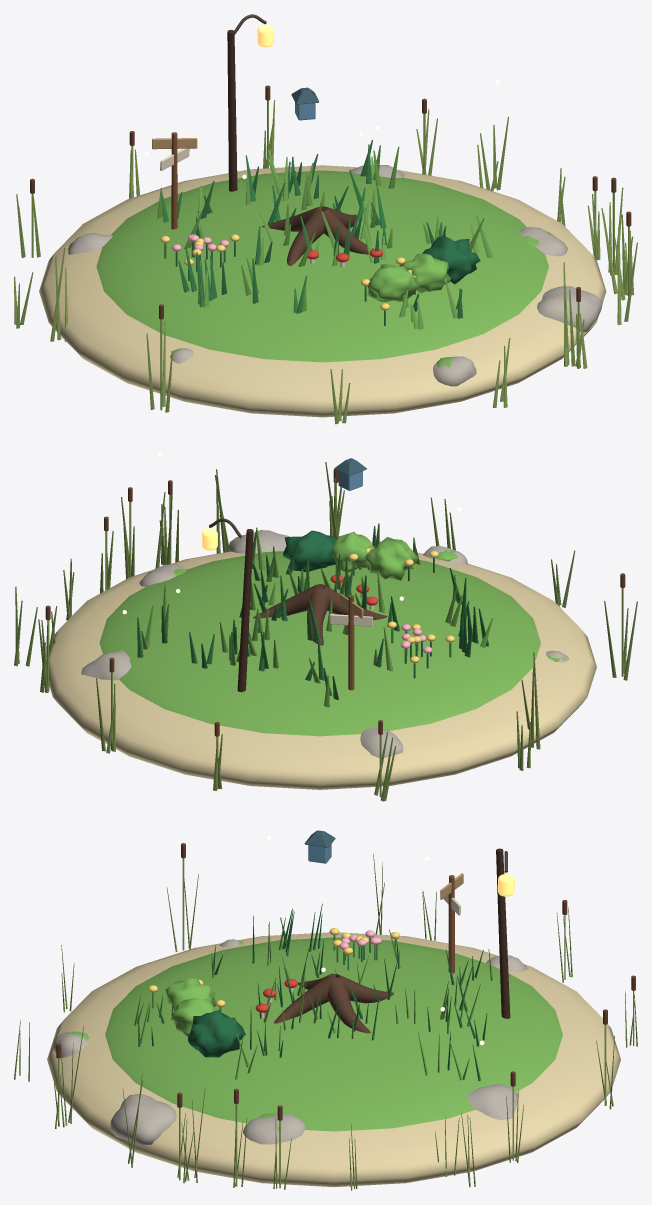
Rendered from islet_10.glb.
3 views of the same model, one above another, from view 1: azimuth 30°, elevation 25°; view 2: azimuth 150°, elevation 25°; view 3: azimuth 270°, elevation 25° (orthographic). The views are drawn at different scales.
Parts seen in each view (by area): view 1: islet_grass.010, islet_sand.010, rock.065, bush.030, bush.032, lpost.002, bush.031, rock.062, root.042, root.043, rock.060, rock.061 (+1 smaller); view 2: islet_grass.010, islet_sand.010, bush.032, bush.030, lpost.002, bush.031, rock.063, rock.061, rock.065, root.041, root.040, signpost.002 (+2 smaller); view 3: islet_grass.010, islet_sand.010, rock.065, bush.032, rock.060, rock.063, lpost.002, root.040, root.043, bush.030, bush.031, root.041 (+2 smaller).
Part boxes in pixels (<box>): islet_grass.010: <box>96,170,548,362</box>; islet_sand.010: <box>39,165,606,417</box>; rock.065: <box>537,286,602,331</box>; bush.030: <box>366,264,420,301</box>; bush.032: <box>422,236,480,284</box>; lpost.002: <box>227,30,237,191</box>; bush.031: <box>401,253,451,293</box>; rock.062: <box>433,356,476,386</box>; root.042: <box>287,209,325,265</box>; root.043: <box>323,208,373,254</box>; rock.060: <box>519,227,567,256</box>; rock.061: <box>68,233,112,254</box>; islet_grass.010: <box>99,551,540,736</box>; islet_sand.010: <box>46,550,596,789</box>; bush.032: <box>283,530,335,571</box>; bush.030: <box>365,537,418,580</box>; lpost.002: <box>237,529,253,692</box>; bush.031: <box>333,531,374,572</box>; rock.063: <box>81,650,131,680</box>; rock.061: <box>360,727,403,758</box>; rock.065: <box>228,530,289,553</box>; root.041: <box>307,588,328,645</box>; root.040: <box>253,585,317,618</box>; signpost.002: <box>348,594,354,690</box>; islet_grass.010: <box>105,937,562,1131</box>; islet_sand.010: <box>47,932,620,1187</box>; rock.065: <box>110,1094,176,1145</box>; bush.032: <box>188,1010,245,1057</box>; rock.060: <box>243,1113,305,1144</box>; rock.063: <box>467,1084,517,1119</box>; lpost.002: <box>496,848,510,1018</box>; root.040: <box>327,977,370,1033</box>; root.043: <box>274,975,332,1023</box>; bush.030: <box>165,976,215,1011</box>; bush.031: <box>171,998,214,1037</box>; root.041: <box>336,974,393,1003</box>.
Size of the model in its own units: 7.95 by 3.76 by 8.26.
